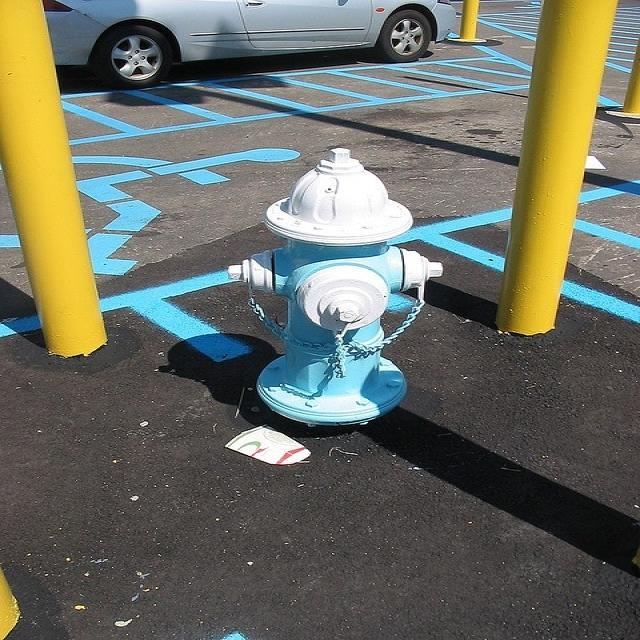fire_hydrant: (265, 137, 425, 463)
